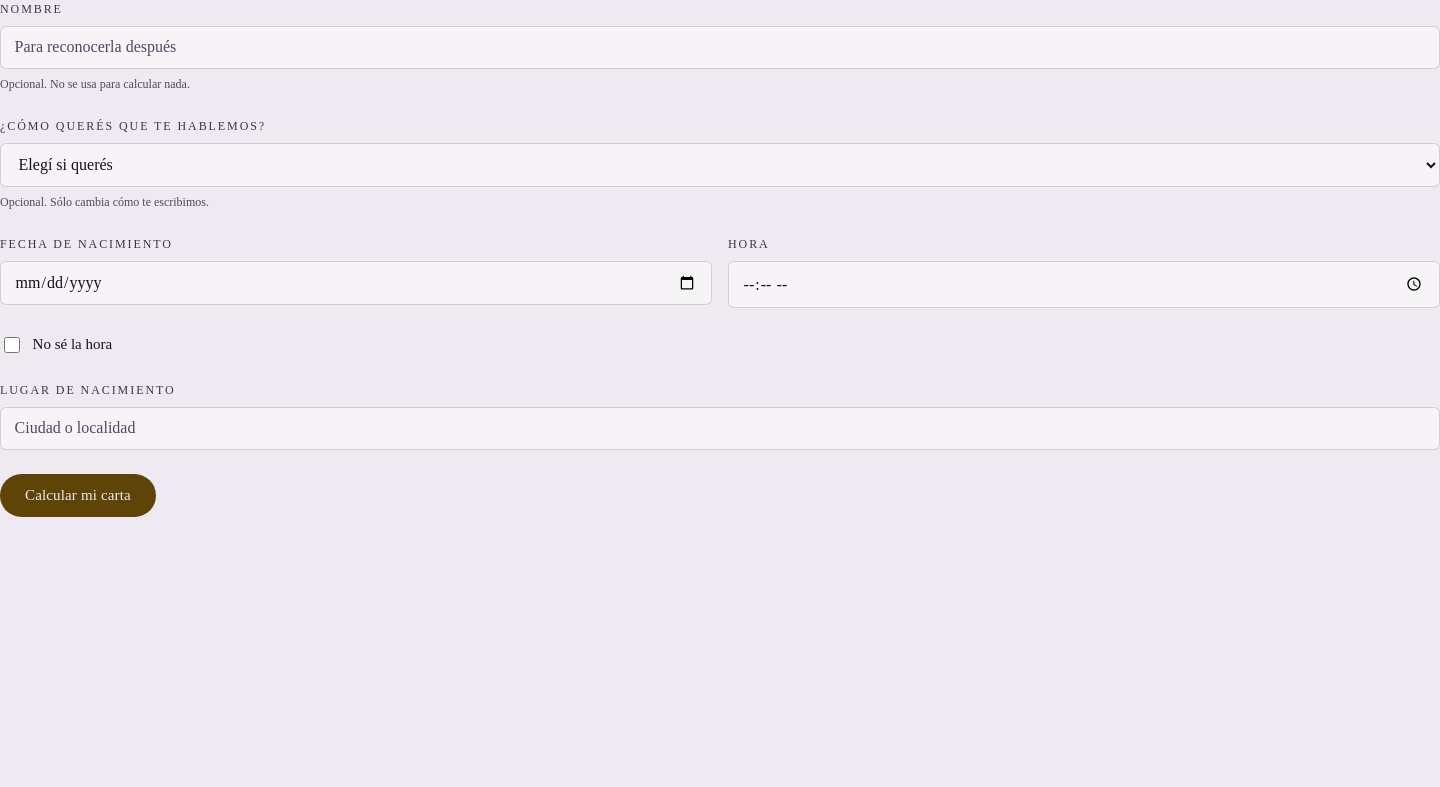
Test case: comprar sin cuenta en pesos › un mail sin forma de mail no sale del navegador
The image size is (1440, 787).
Type "1976-05-31" into the date field labelled "Fecha de nacimiento" at (356, 283), box [0,261,712,306]
Type "rosario" into the field labelled "Lugar de nacimiento" at (720, 428), box [0,407,1439,450]
Wait 400 ms
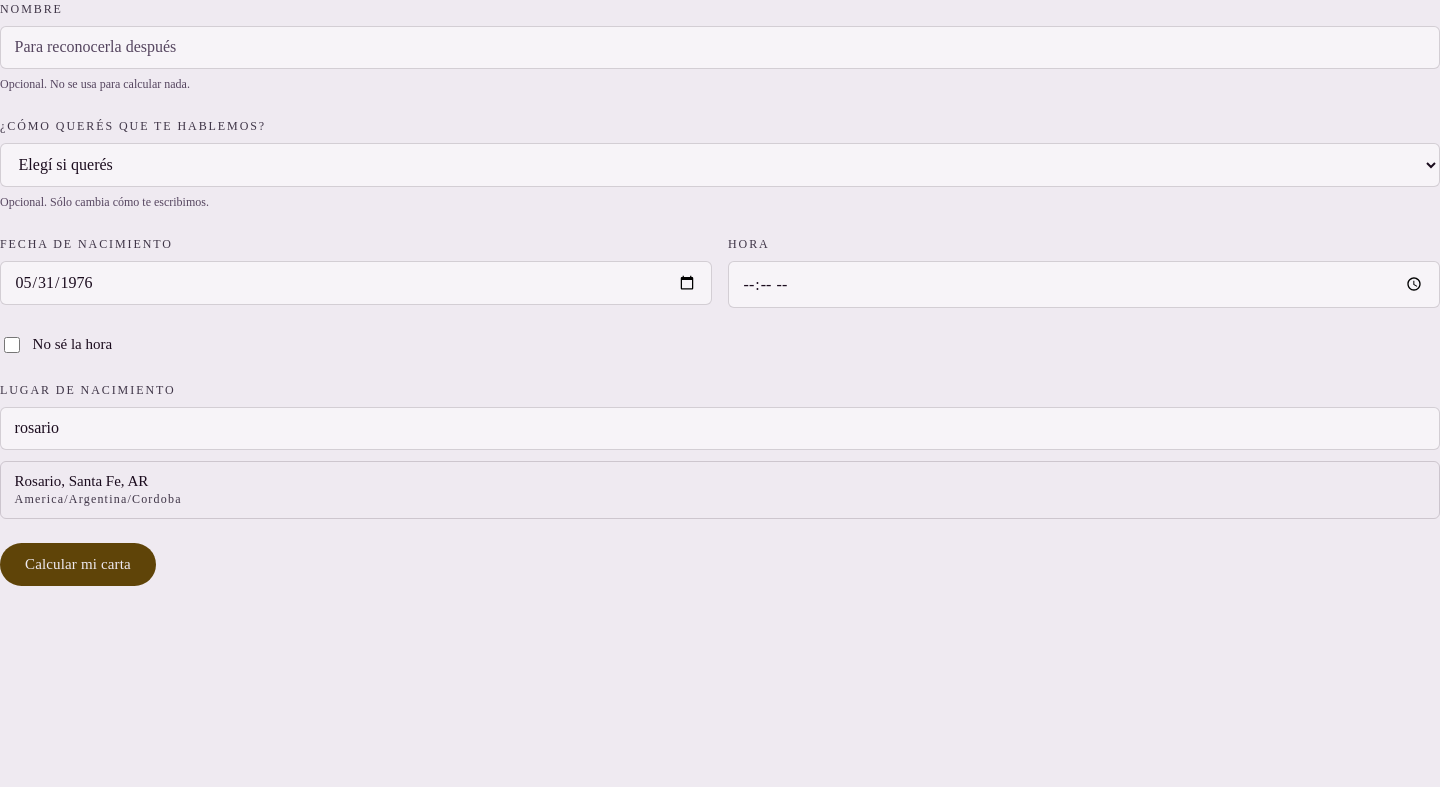
Click the button "Rosario, Santa Fe, AR America/Argentina/Cordoba" at (81, 481), box [1,462,1439,518]
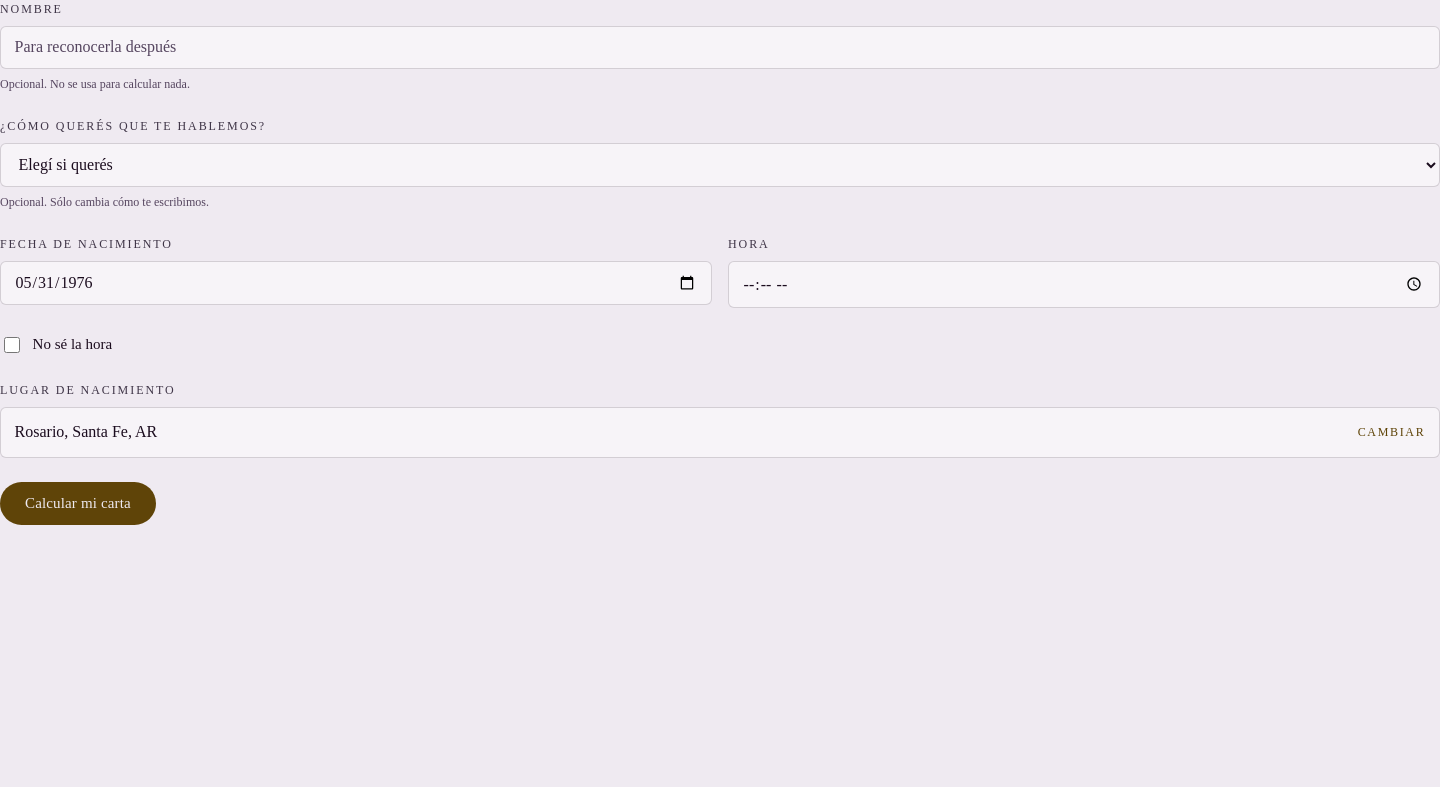
Click the button "Calcular mi carta" at (78, 504), box [0,482,156,525]
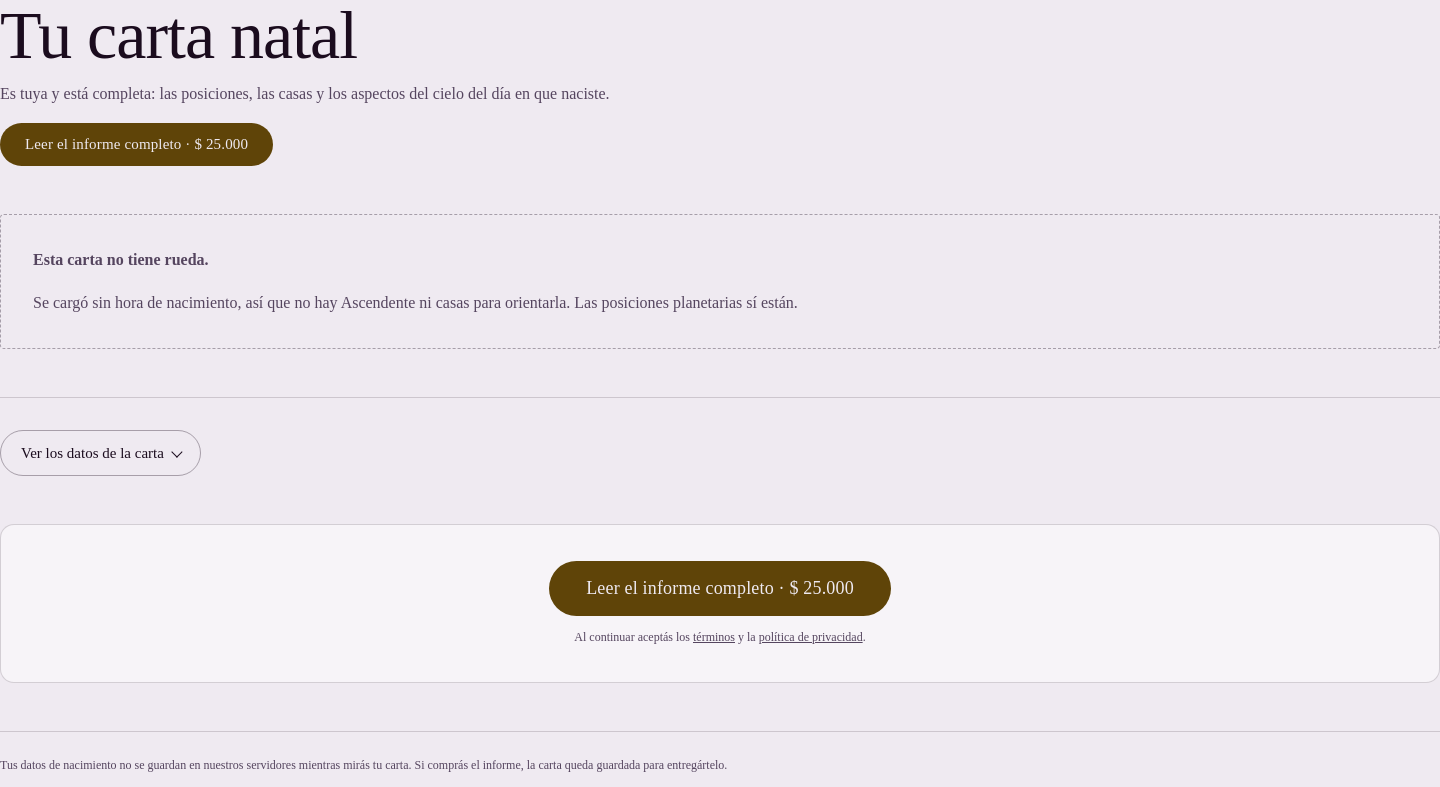
Click the button "Leer el informe completo · $ 25.000" below "Tu carta natal" at (137, 145), box [0,123,273,166]
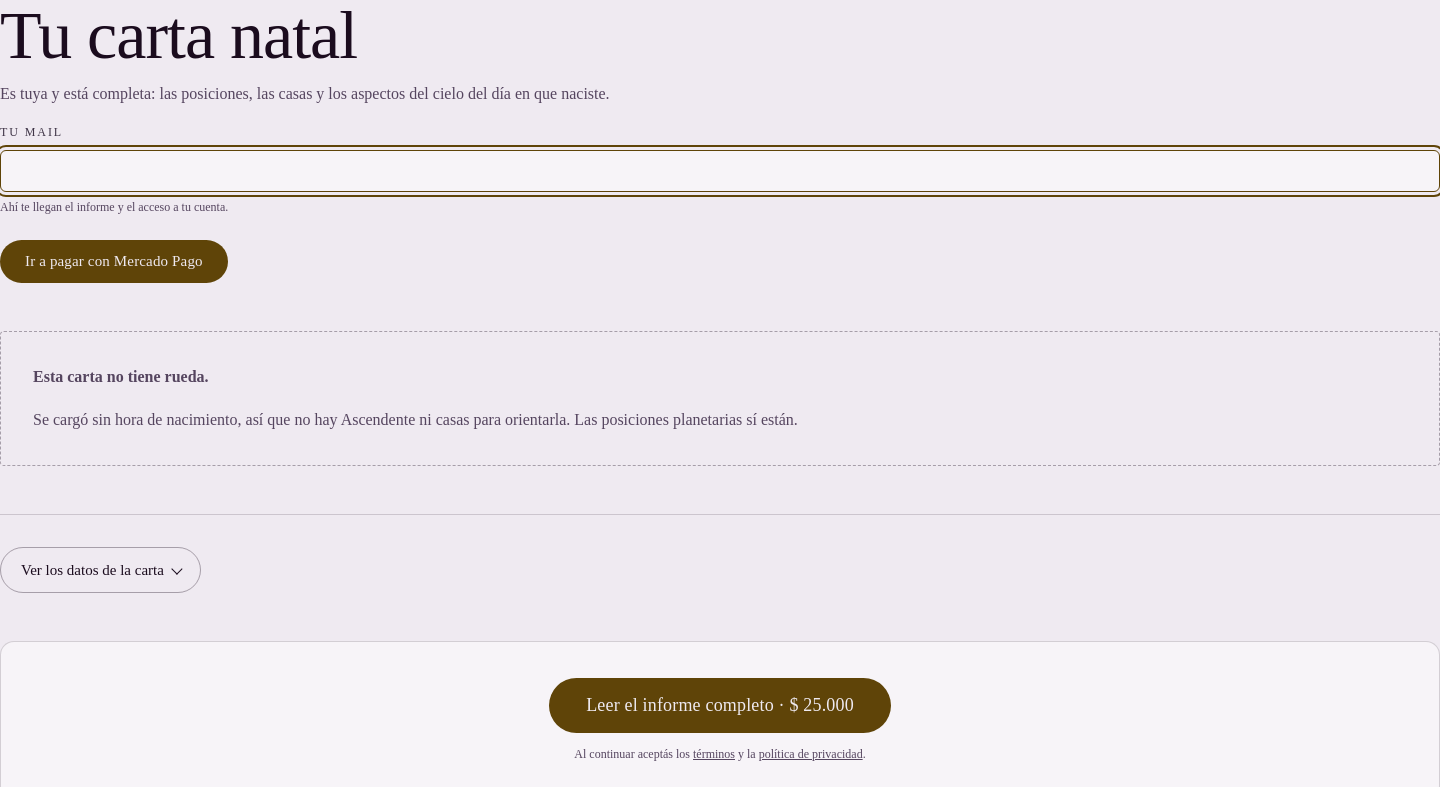
Type "ana-sin-arroba" into the field labelled "Tu mail" at (720, 171), box [0,150,1439,192]
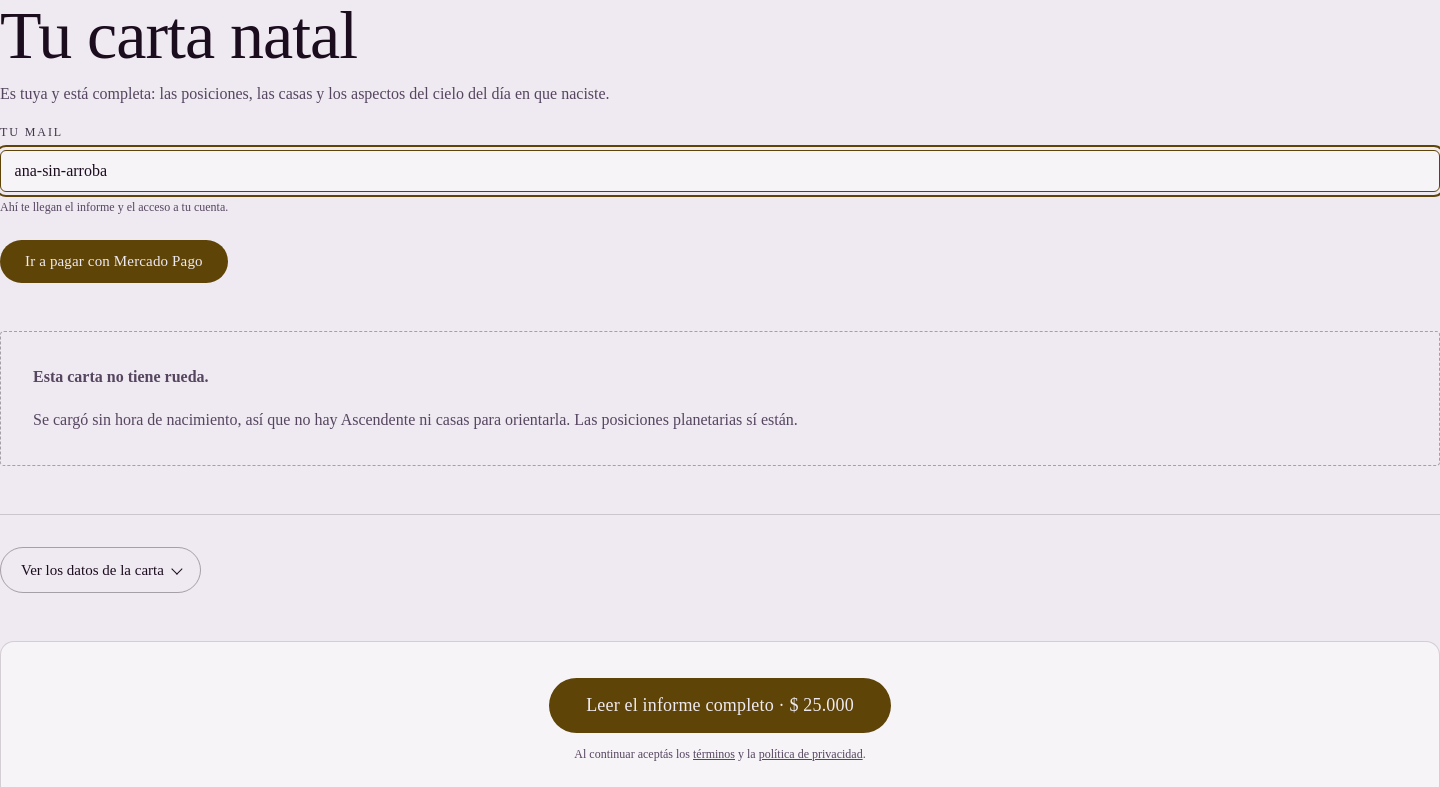
Click the button "Ir a pagar con Mercado Pago" at (114, 262), box [0,240,228,283]
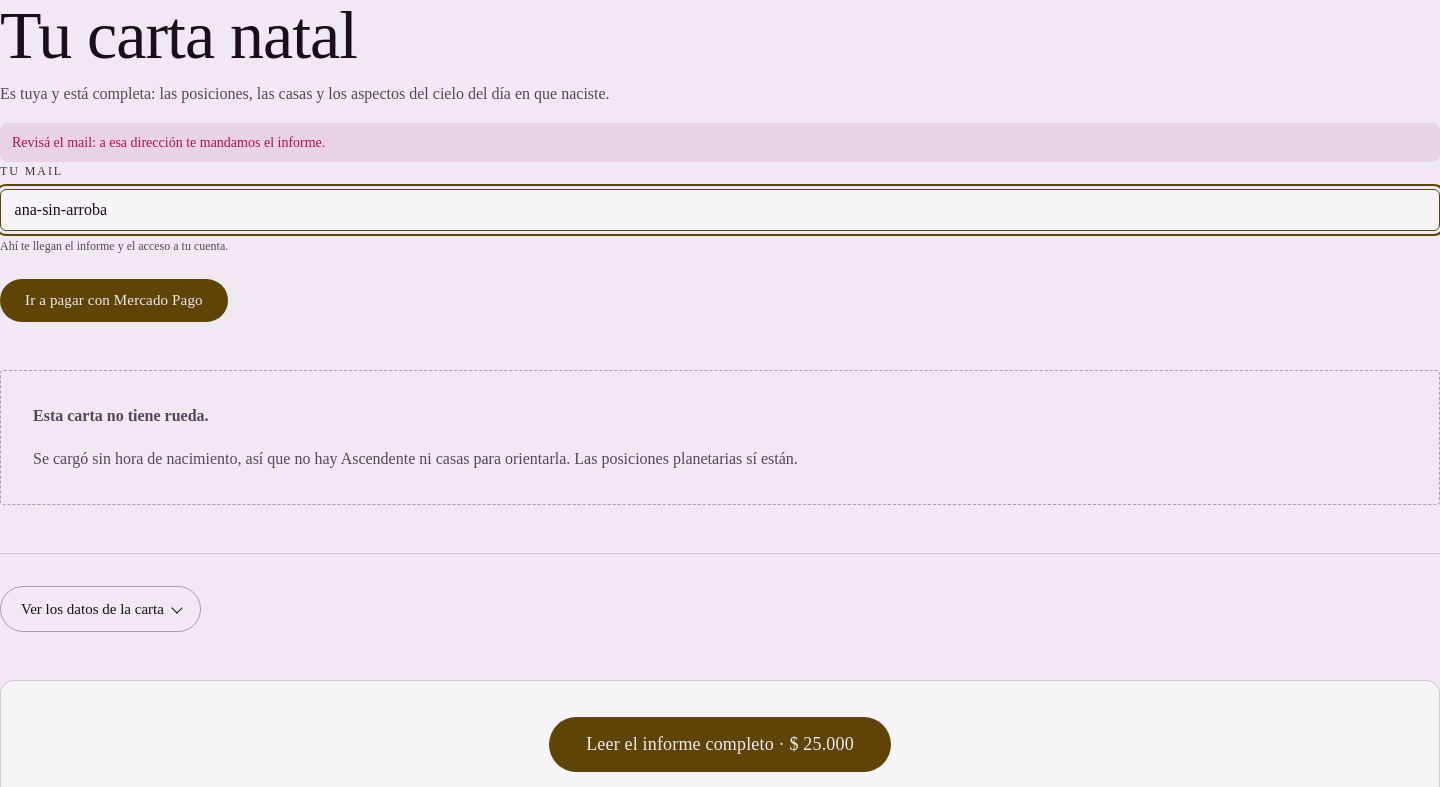
Check: the message reads "Revisá el mail: a esa dirección te mandamos el informe.", box [12,135,325,150]
